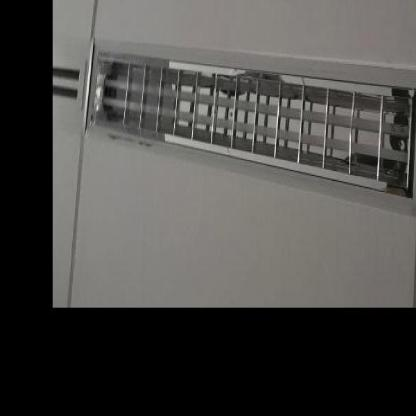light_off: (78, 34, 416, 210)
